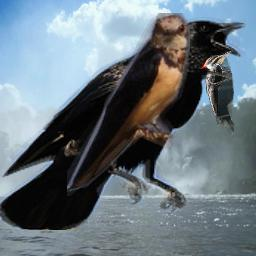Crow: (0, 17, 246, 230)
Swallow: (67, 13, 190, 196)
Woodpecker: (200, 51, 234, 139)
